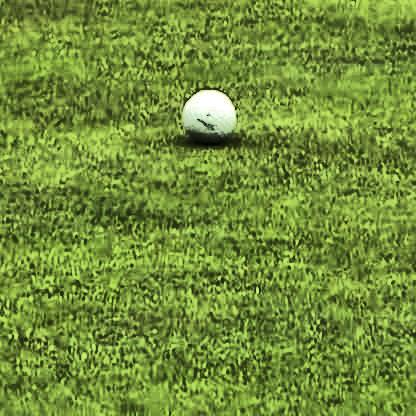golfball: (178, 86, 235, 142)
